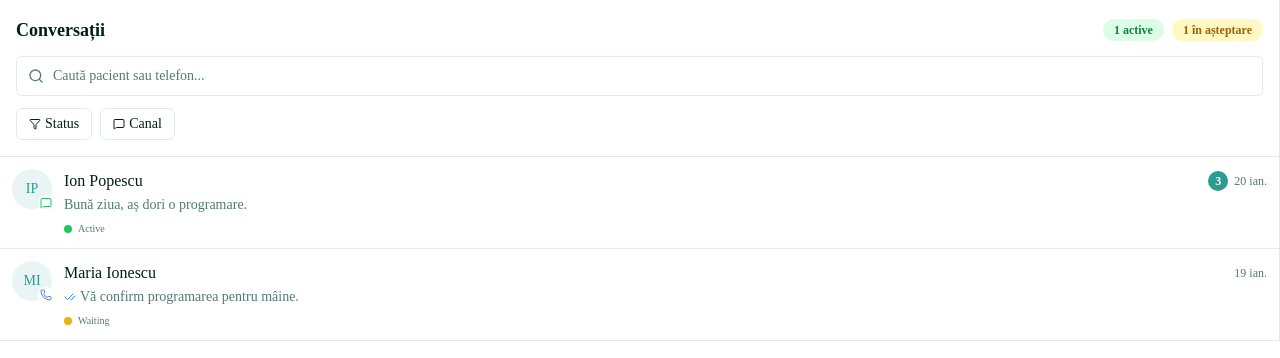
Test: ConversationList › should filter by channel
Click the button "Canal".
click(138, 124)  # box [100,108,175,140]
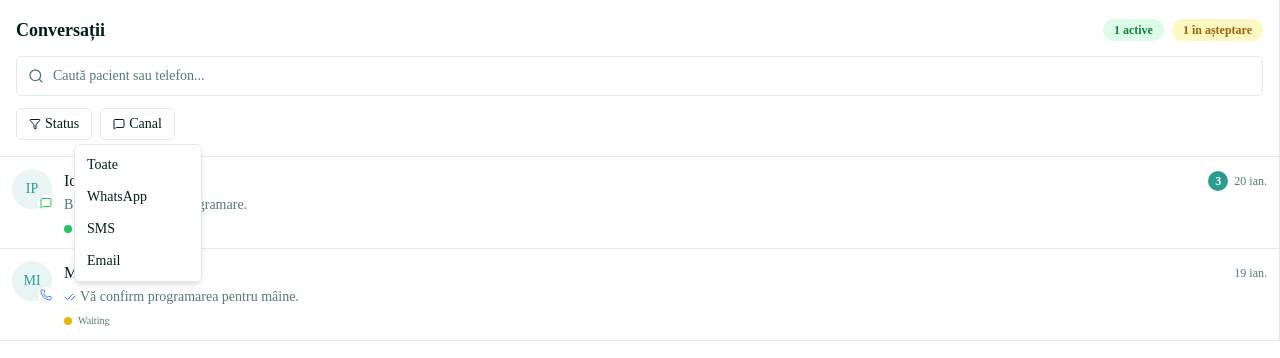
Check: the menu item "WhatsApp" is shown
Click the menu item "WhatsApp".
click(117, 196)  # box [87,189,147,204]
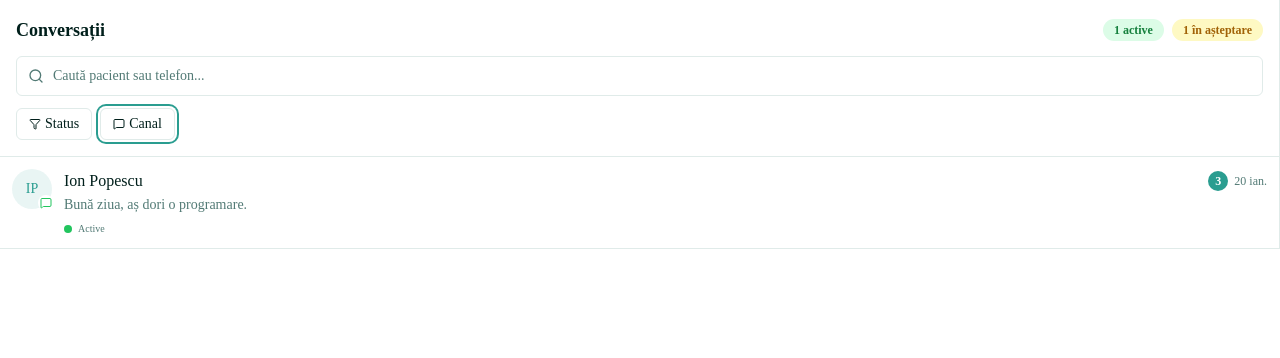
Check: the text "Ion Popescu" is shown, box [64,169,143,193]
Check: the text "Maria Ionescu" is gone
